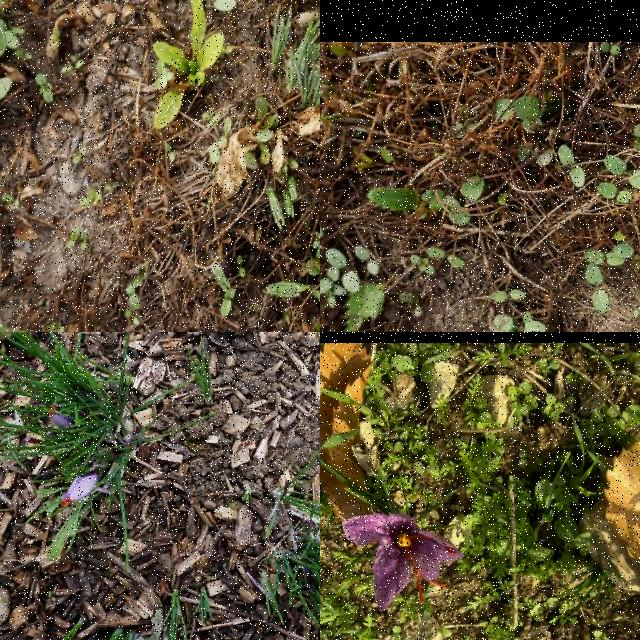flower: (342, 514, 468, 612), (61, 476, 98, 508), (49, 409, 72, 428)
